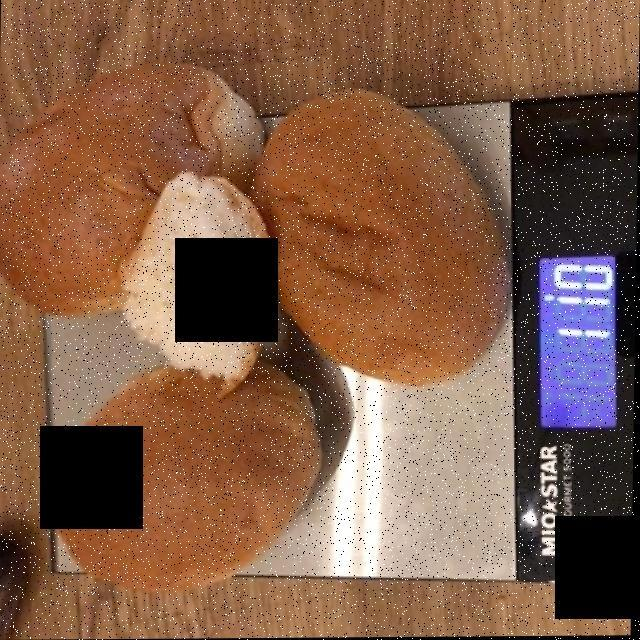bread: (3, 69, 503, 593)
